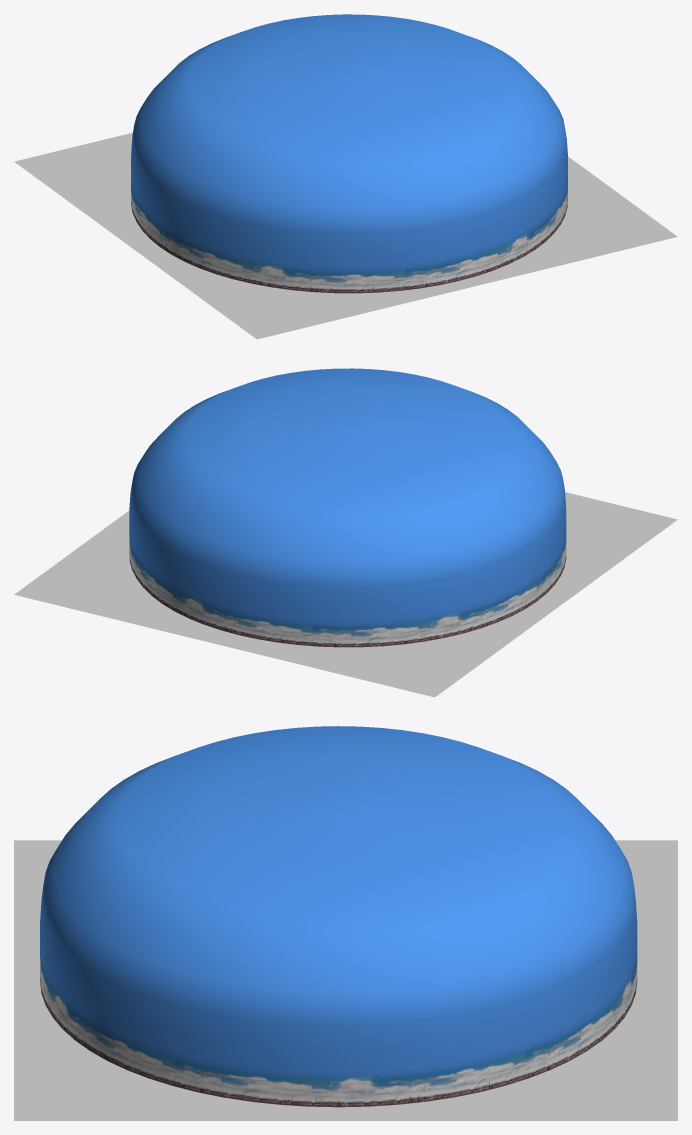
File: chicago.dae
3 views of the same model, one above another, from view 1: azimuth 30°, elevation 25°; view 2: azimuth 150°, elevation 25°; view 3: azimuth 270°, elevation 25° (orthographic). The views are drawn at different scales.
Parts seen in each view (by area): view 1: sky, ground; view 2: sky, ground; view 3: sky, ground.
Boxes of the visible parts, bbox=[...] form: sky: bbox=[131, 14, 567, 293]; ground: bbox=[14, 132, 677, 339]; sky: bbox=[129, 368, 566, 647]; ground: bbox=[14, 492, 677, 697]; sky: bbox=[40, 726, 637, 1107]; ground: bbox=[14, 840, 677, 1120].
Bounding box in the file's own units: 12.21 × 12.21 × 3.89.
